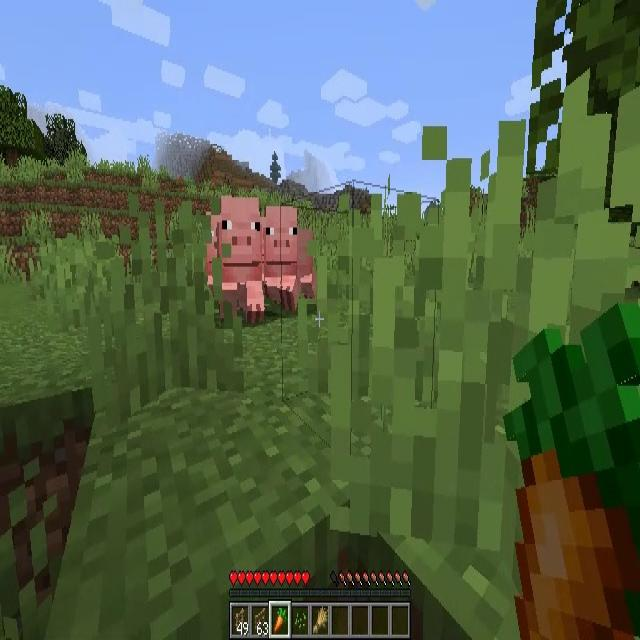pig: (215, 195, 264, 321), (263, 205, 315, 312), (199, 214, 220, 278)
